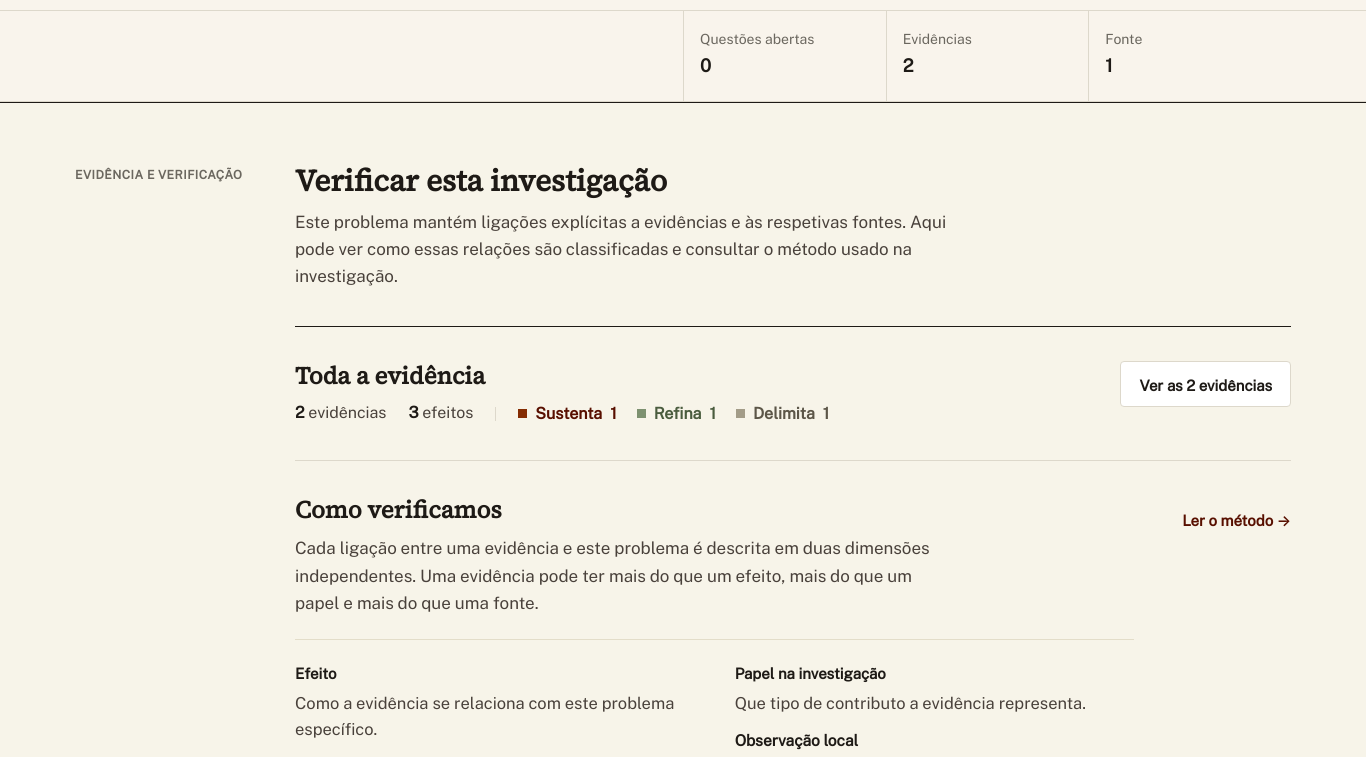
it: PrbDetailsPresentation — audit evidence drawer › renders every evidence record in projection order with its ID, summary, effects, research roles and source references as text
(page scrolled)
What coordinates should you click on to do the following:
click the button "Ver as 2 evidências"
I would click on:
 (1206, 384)
Its box is [1120, 362, 1291, 408].
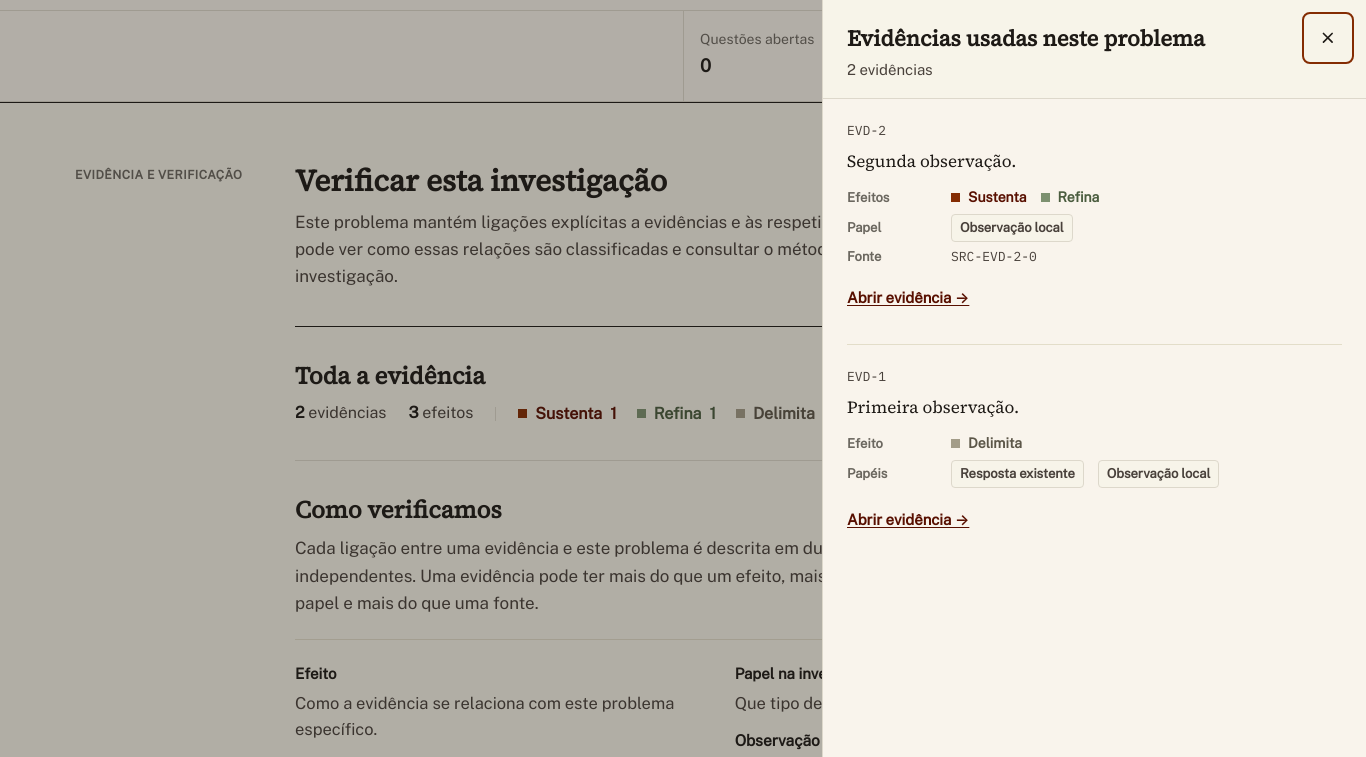
Expected: the text "Segunda observação." is shown, [847, 149, 1016, 173]
Expected: the text named "Papel: Observação local" is shown, [951, 214, 1073, 242]
Expected: the element showing "SRC-EVD-2-0" is shown, [951, 248, 1037, 265]
